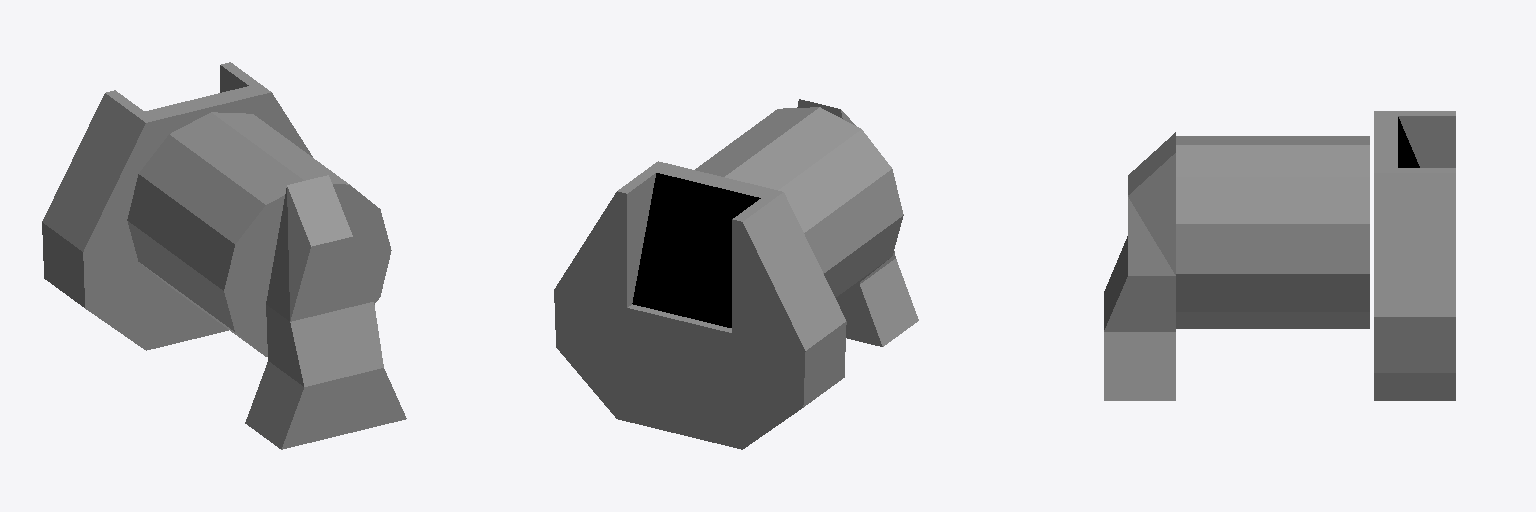
The model's file is GeneratorV2.obj.
3 renders of one model, left to right at view 1: azimuth 30°, elevation 25°; view 2: azimuth 150°, elevation 25°; view 3: azimuth 270°, elevation 25°, orthographic.
Visible parts, largest first — view 1: GeneratorV2; view 2: GeneratorV2; view 3: GeneratorV2.
Part boxes in pixels (x1,y1,x2,y2): GeneratorV2: (42, 62, 406, 449); GeneratorV2: (554, 99, 918, 449); GeneratorV2: (1104, 111, 1455, 400).
Bounding box in the file's own units: 1.5 × 1.3 × 1.82.